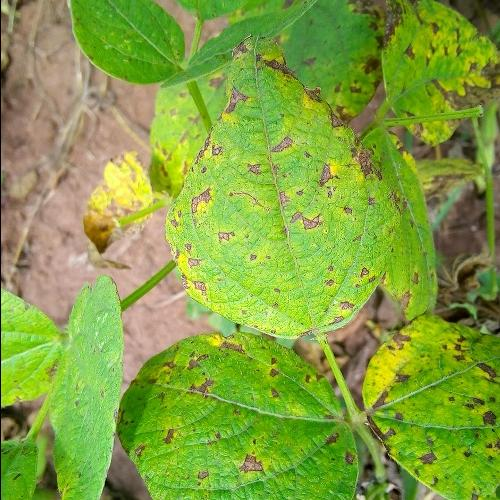hawar: (175, 294, 212, 314)
